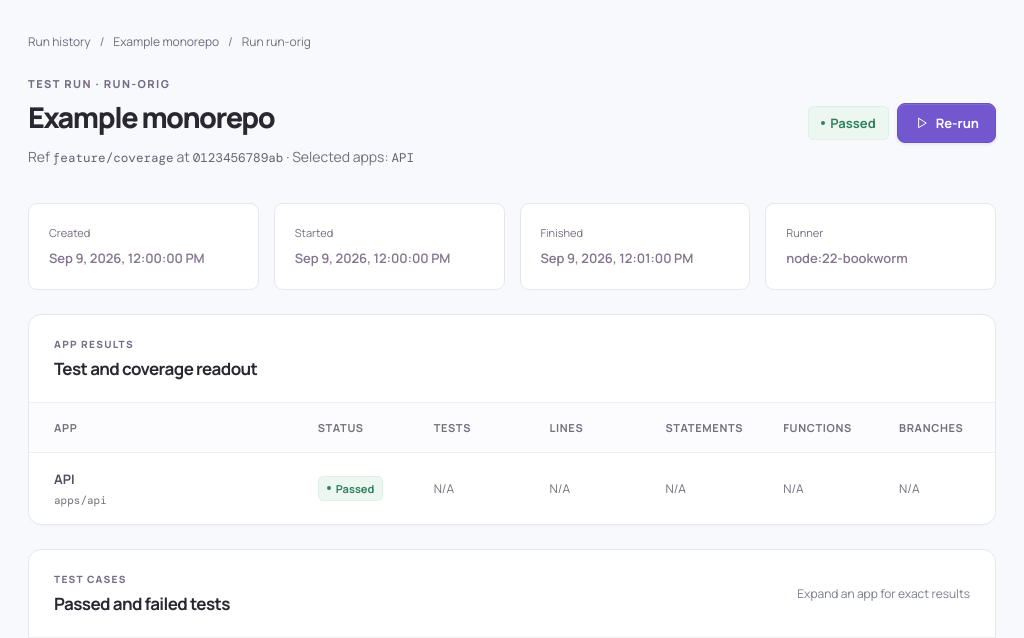
Test case: run detail re-run action › keeps the run visible when queueing is rejected
The width and height of the screenshot is (1024, 638).
Click the button "Re-run" at (946, 123), box top-left (897, 103), bottom-right (996, 143)
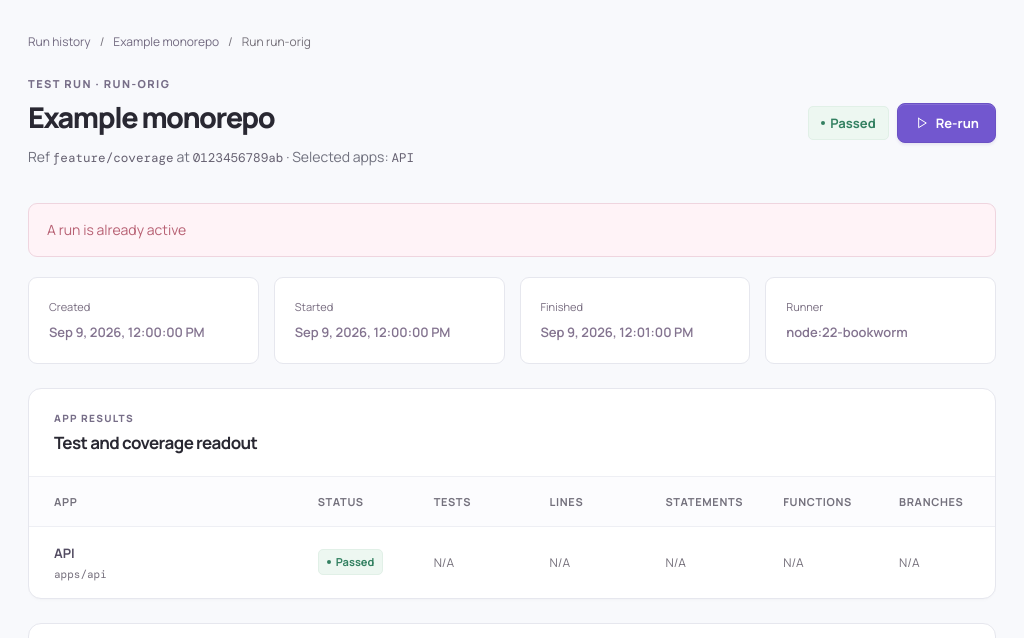
Expected: the heading "Example monorepo" is shown, top-left (28, 97), bottom-right (274, 137)
Expected: the message reads "A run is already active", top-left (47, 220), bottom-right (186, 239)
